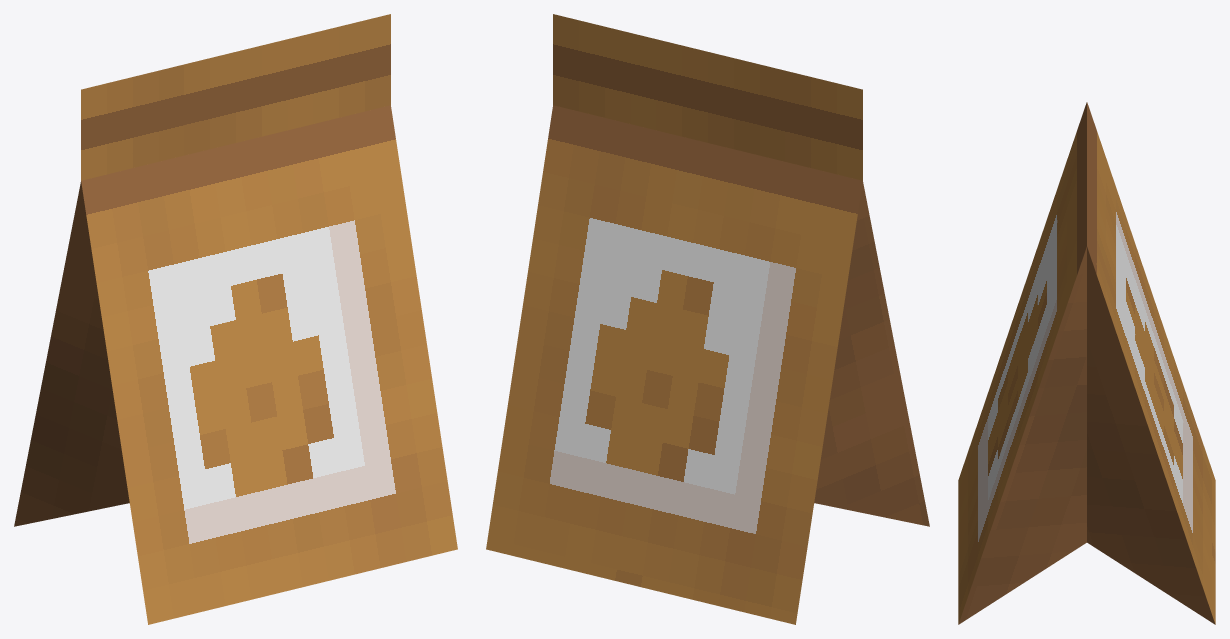
File: potato_seeds-optimized.glb
3 views of the same model, side by side, from view 1: azimuth 30°, elevation 25°; view 2: azimuth 150°, elevation 25°; view 3: azimuth 270°, elevation 25° (orthographic). The views are drawn at different scales.
Parts seen in each view (by area): view 1: cuboid; view 2: cuboid; view 3: cuboid.
Part boxes in pixels (box(x1,y1,x2,y2)): cuboid: box(14, 14, 457, 624); cuboid: box(486, 14, 929, 624); cuboid: box(958, 102, 1215, 624).
Bounding box in the file's own units: 0.5 × 0.75 × 0.375.
Materials: 1 (1 with a texture image).
